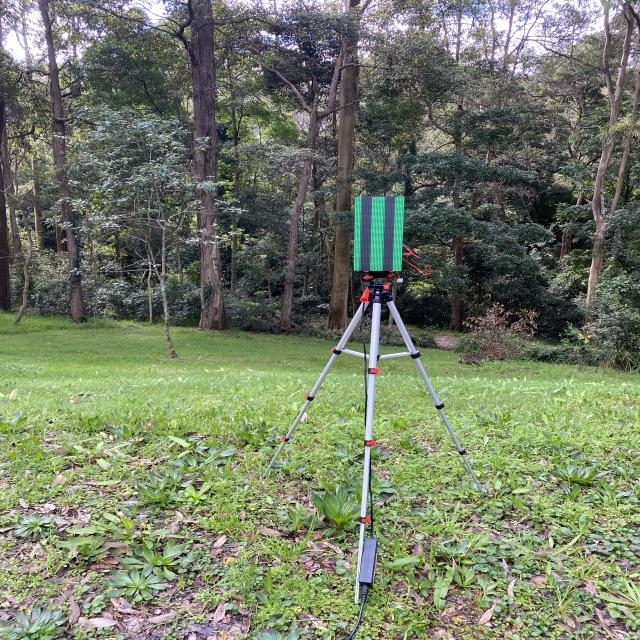matrix: (347, 194, 409, 273)
